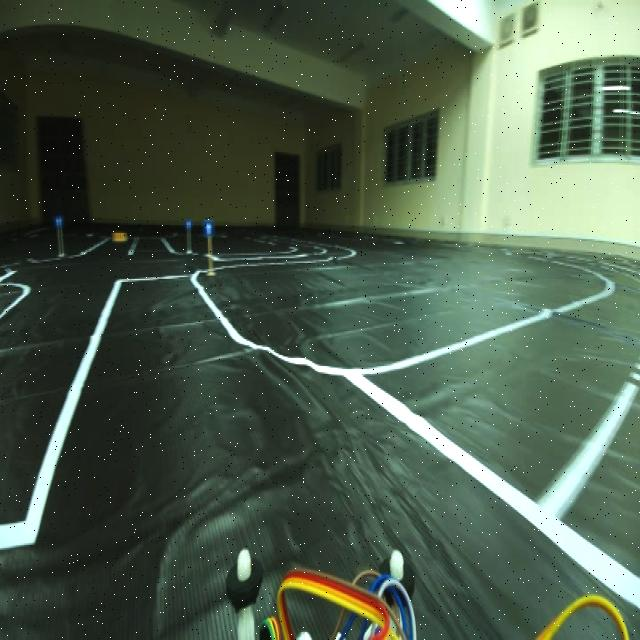onewayroad: (203, 214, 215, 237), (184, 214, 195, 233), (55, 212, 63, 228)
roadblock: (112, 224, 131, 243)
